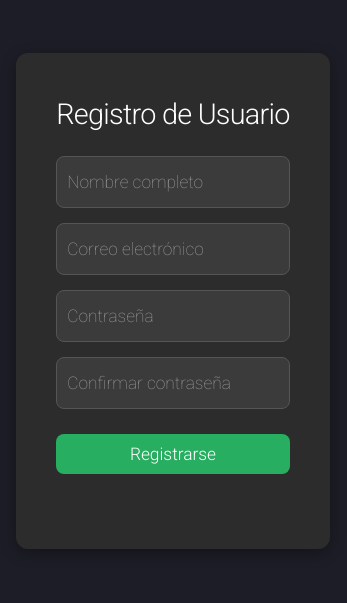
Test: 🧾 Formulario de Registro › ❌ muestra error si las contraseñas no coinciden
Type "Benjamín" into the field with placeholder "Nombre completo" at (173, 182), box left=56, top=156, right=290, bottom=208
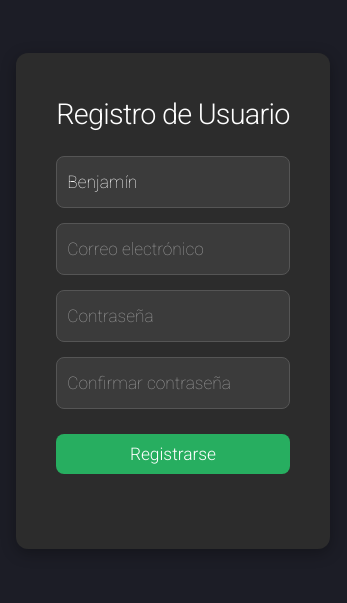
Type "benja@test.com" into the field with placeholder "Correo electrónico" at (173, 249), box left=56, top=223, right=290, bottom=275
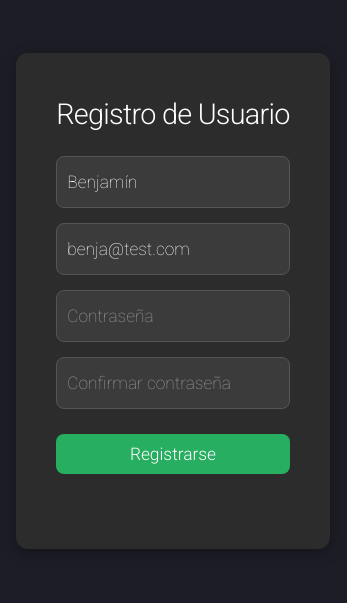
Type "1234" into the password field with placeholder "Contraseña" at (173, 316), box left=56, top=290, right=290, bottom=342
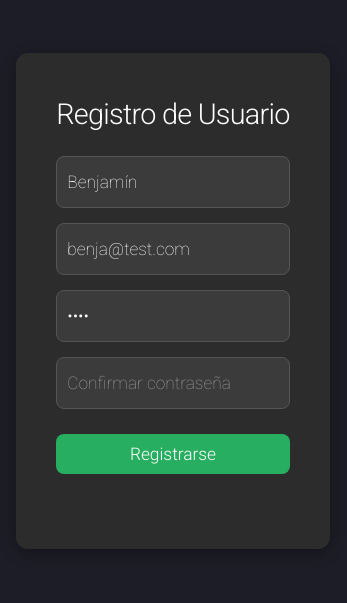
Type "5678" into the password field with placeholder "Confirmar contraseña" at (173, 383), box left=56, top=357, right=290, bottom=409
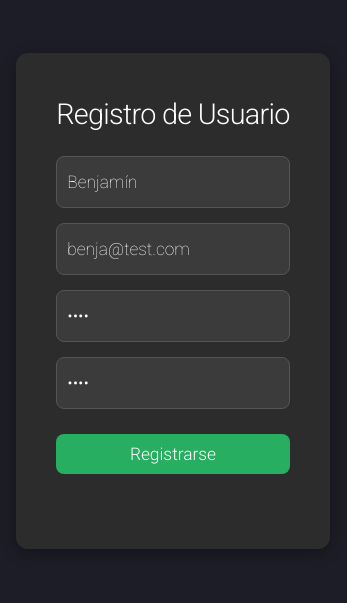
Click the button "Registrarse" at (173, 454), box left=56, top=434, right=290, bottom=474
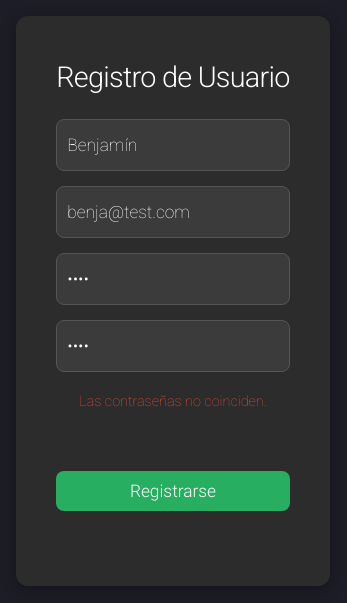
Expected: the text "Las contraseñas no coinciden." is shown, left=79, top=393, right=267, bottom=410
